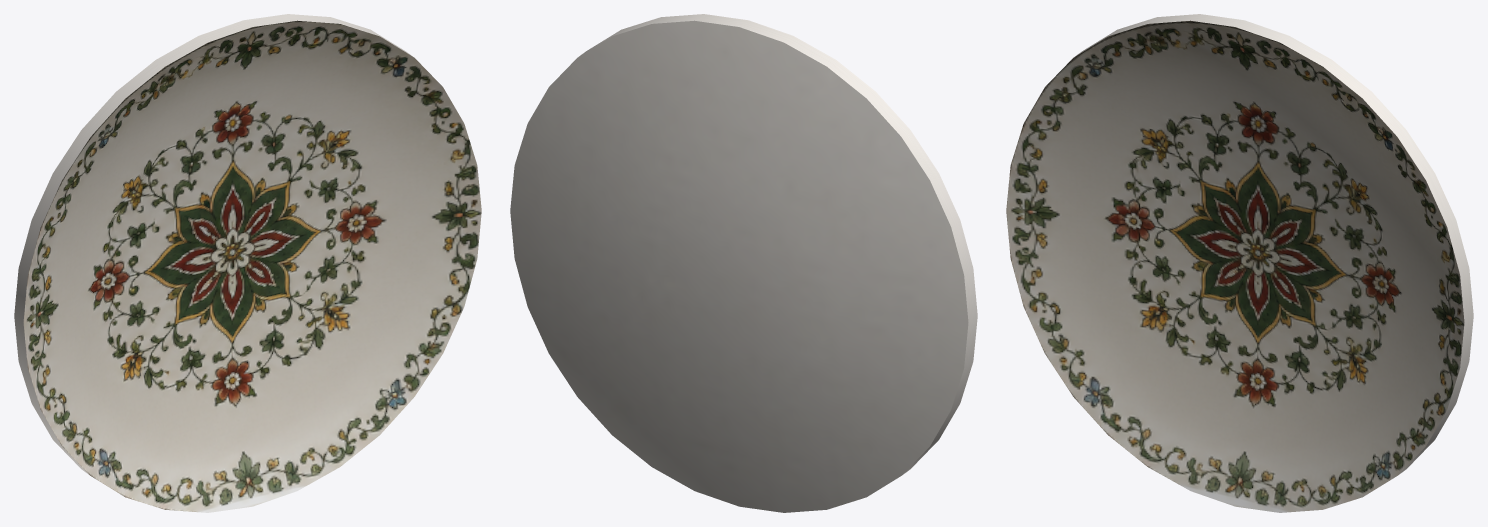
Rendered from Piring4.fbx.
3 views of the same model, side by side, from view 1: azimuth 30°, elevation 25°; view 2: azimuth 150°, elevation 25°; view 3: azimuth 330°, elevation 25° (orthographic).
Visible parts, largest first — view 1: Piring3; view 2: Piring3; view 3: Piring3.
Part boxes in pixels (<box>): Piring3: <box>14,14,481,512</box>; Piring3: <box>510,14,977,512</box>; Piring3: <box>1006,14,1473,512</box>.
Bounding box in the file's own units: 60.57 × 60.57 × 6.22.
